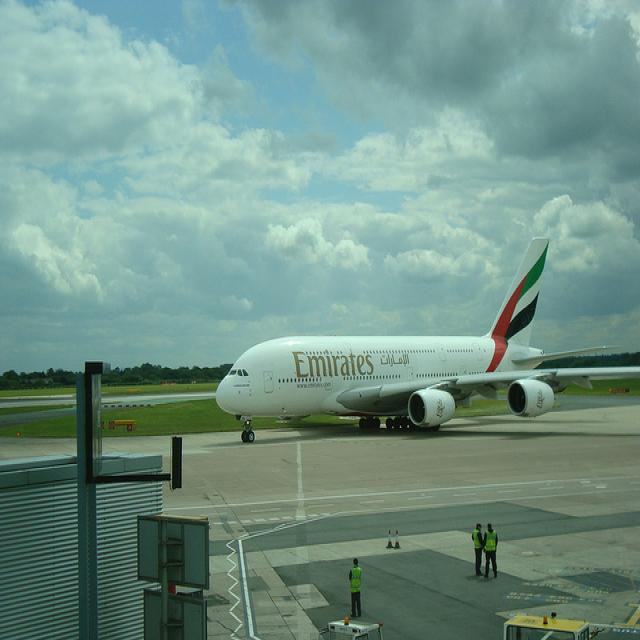airplane: (214, 234, 640, 446)
